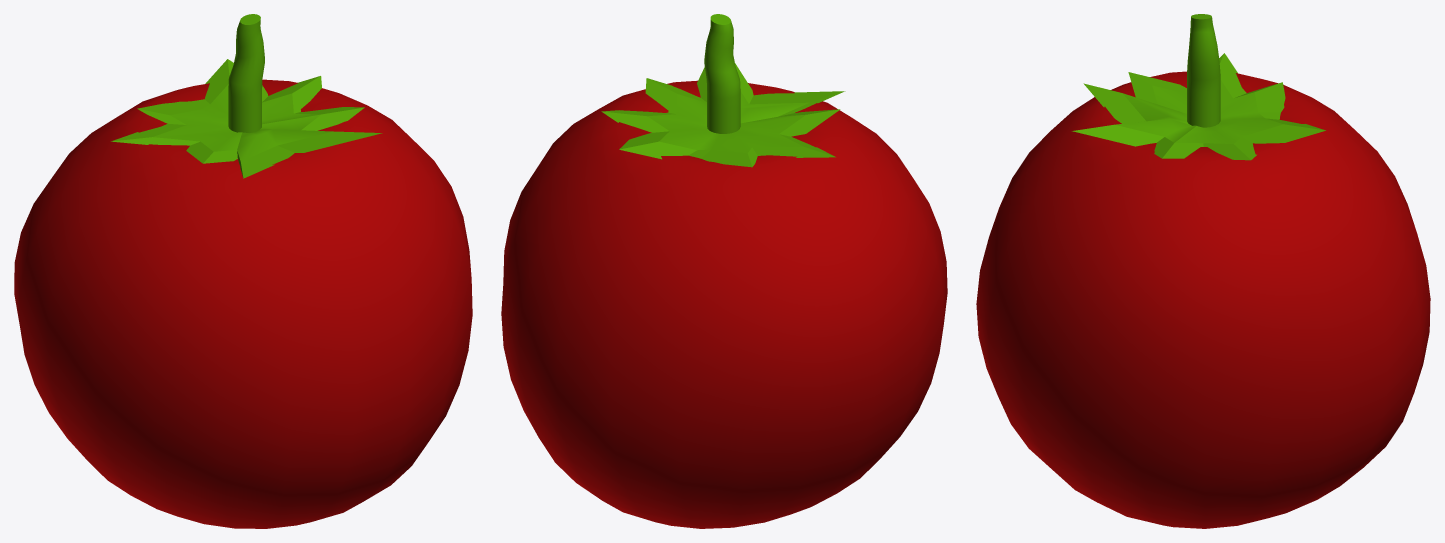
Rendered from tomato.fbx.
The picture shows the model from 3 angles, left to right: view 1: azimuth 30°, elevation 25°; view 2: azimuth 150°, elevation 25°; view 3: azimuth 270°, elevation 25°; orthographic projection.
Parts seen in each view (by area): view 1: pCylinder2; view 2: pCylinder2; view 3: pCylinder2.
Part boxes in pixels (x1,y1,x2,y2): pCylinder2: [14, 14, 472, 528]; pCylinder2: [501, 14, 947, 528]; pCylinder2: [976, 14, 1430, 528].
Size of the model in its own units: 82.2 by 96.99 by 81.88.
